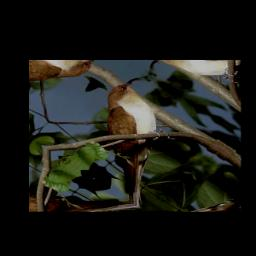Cuckoo: (41, 72, 228, 207)
